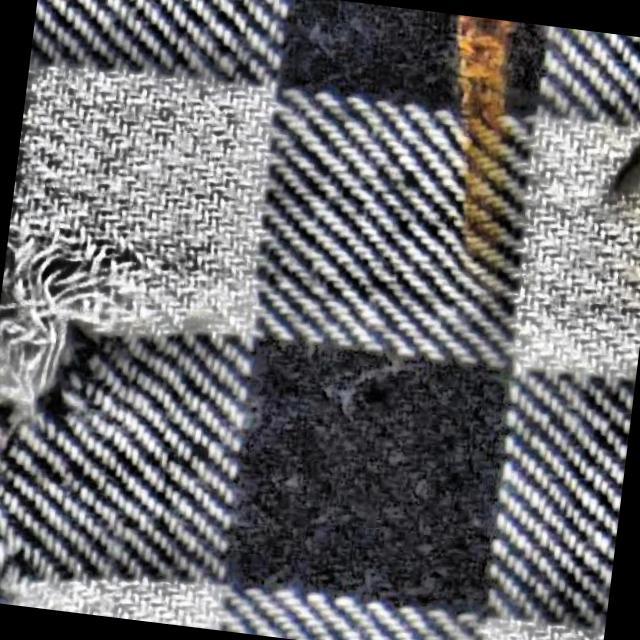gray stitch: (0, 186, 139, 540)
